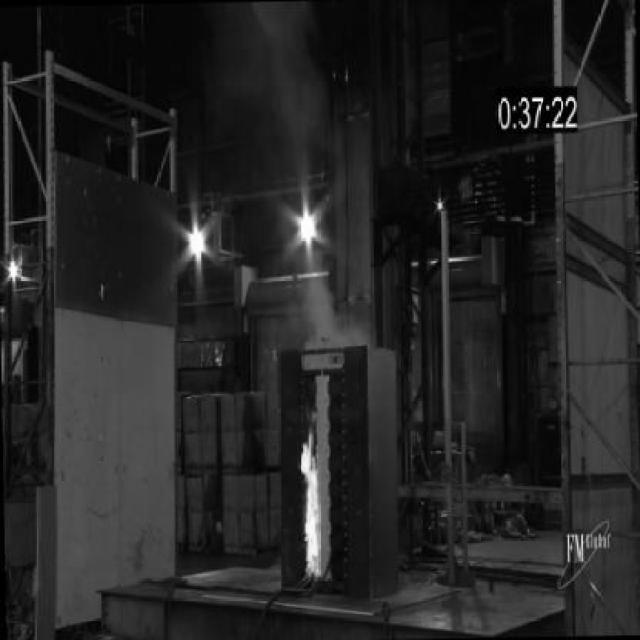fire: (296, 264, 382, 342)
smoke: (294, 404, 332, 587)
